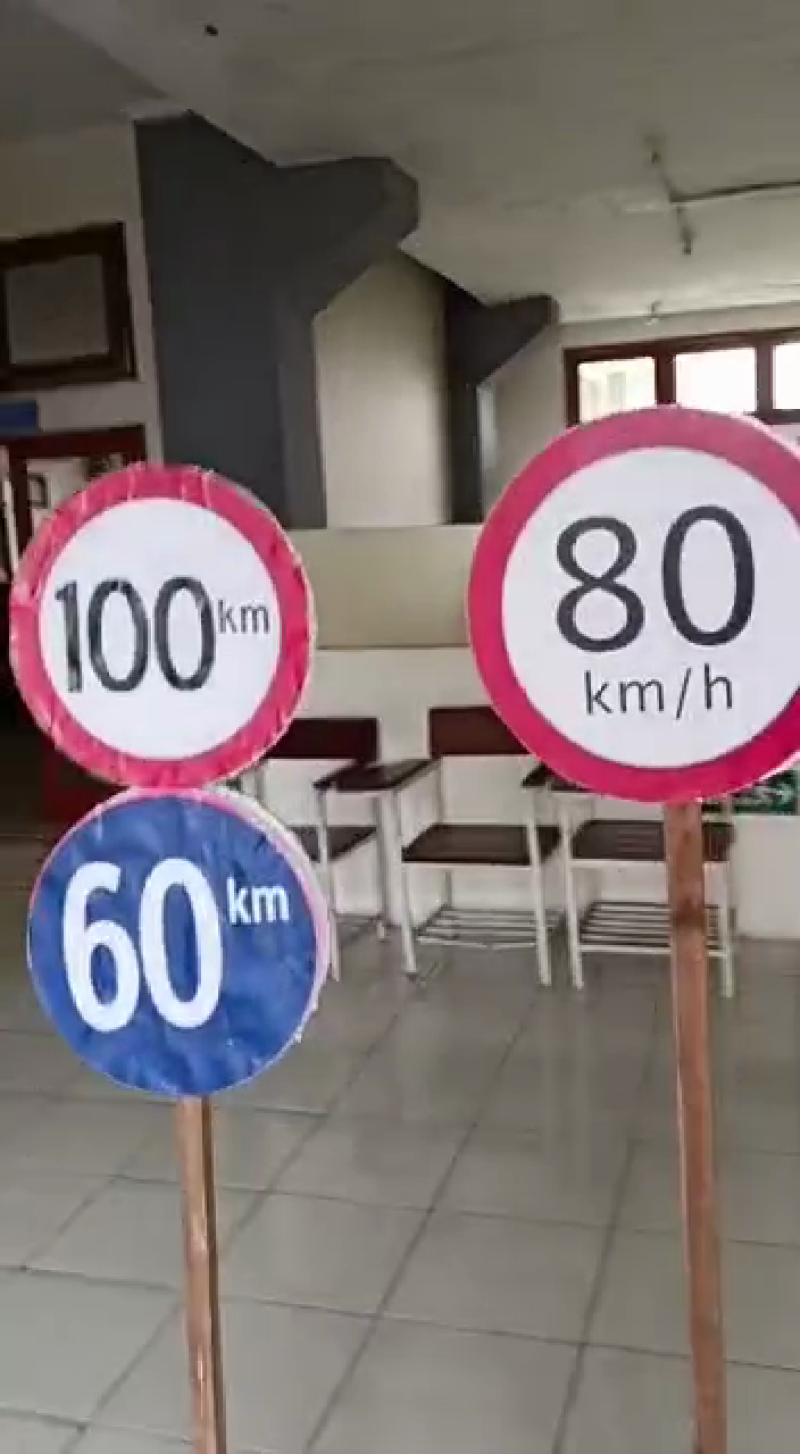batas maksimal 100kmperjam minimal 60kmperjam: (1, 471, 336, 1113)
batas maksimal 80kmperjam: (446, 396, 800, 811)
